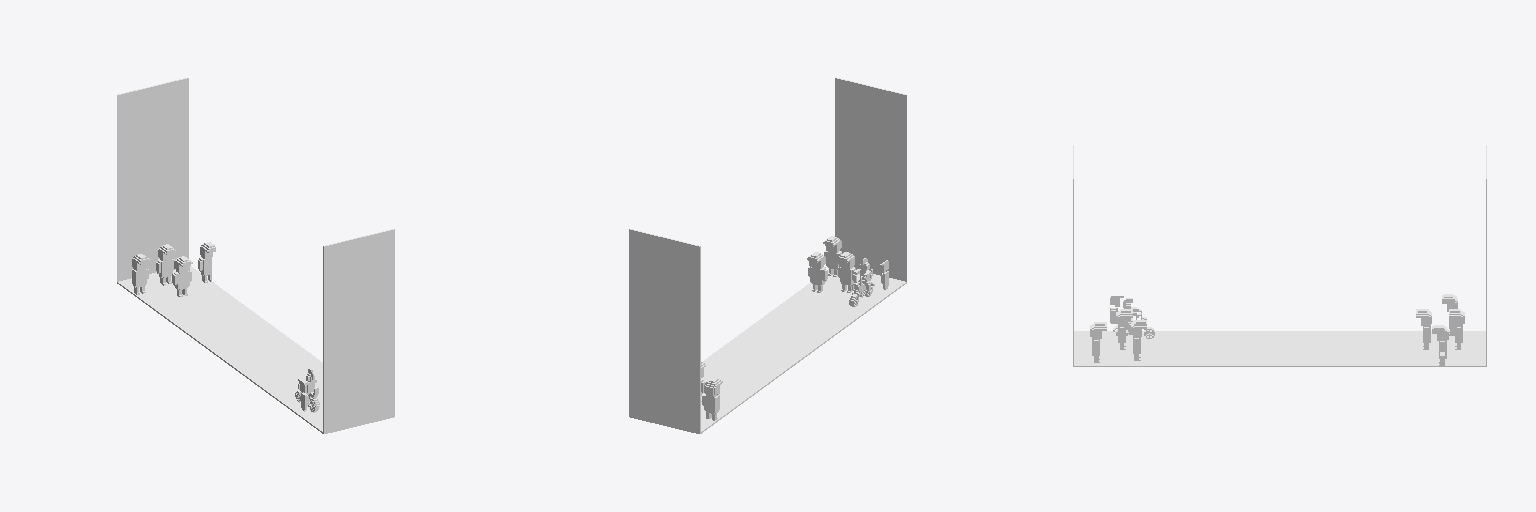
File: stage3_c.obj
The picture shows the model from 3 angles: view 1: azimuth 30°, elevation 25°; view 2: azimuth 150°, elevation 25°; view 3: azimuth 270°, elevation 25°; orthographic projection.
Parts seen in each view (by area): view 1: object 1; view 2: object 1; view 3: object 1.
Boxes of the visible parts, <box> form: object 1: <box>117,78,394,433</box>; object 1: <box>629,78,906,433</box>; object 1: <box>1073,145,1486,366</box>.
Size of the model in its own units: 5.1 by 12.8 by 25.6.